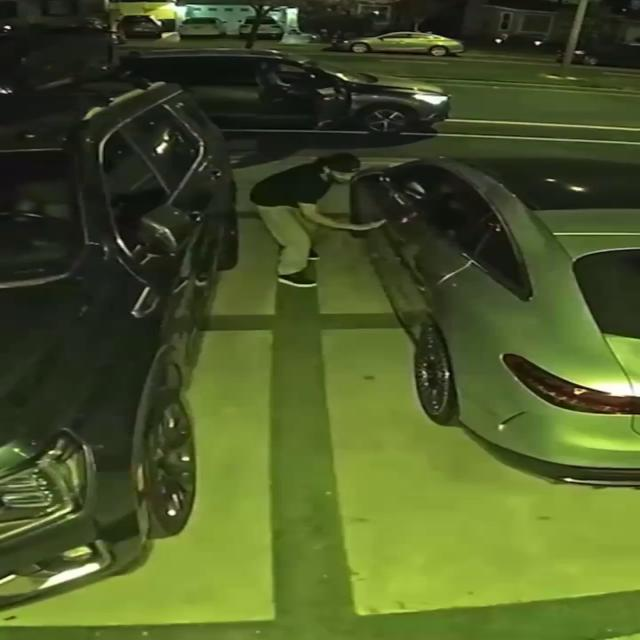Theft - Alert: (348, 156, 639, 487), (251, 152, 381, 287)
